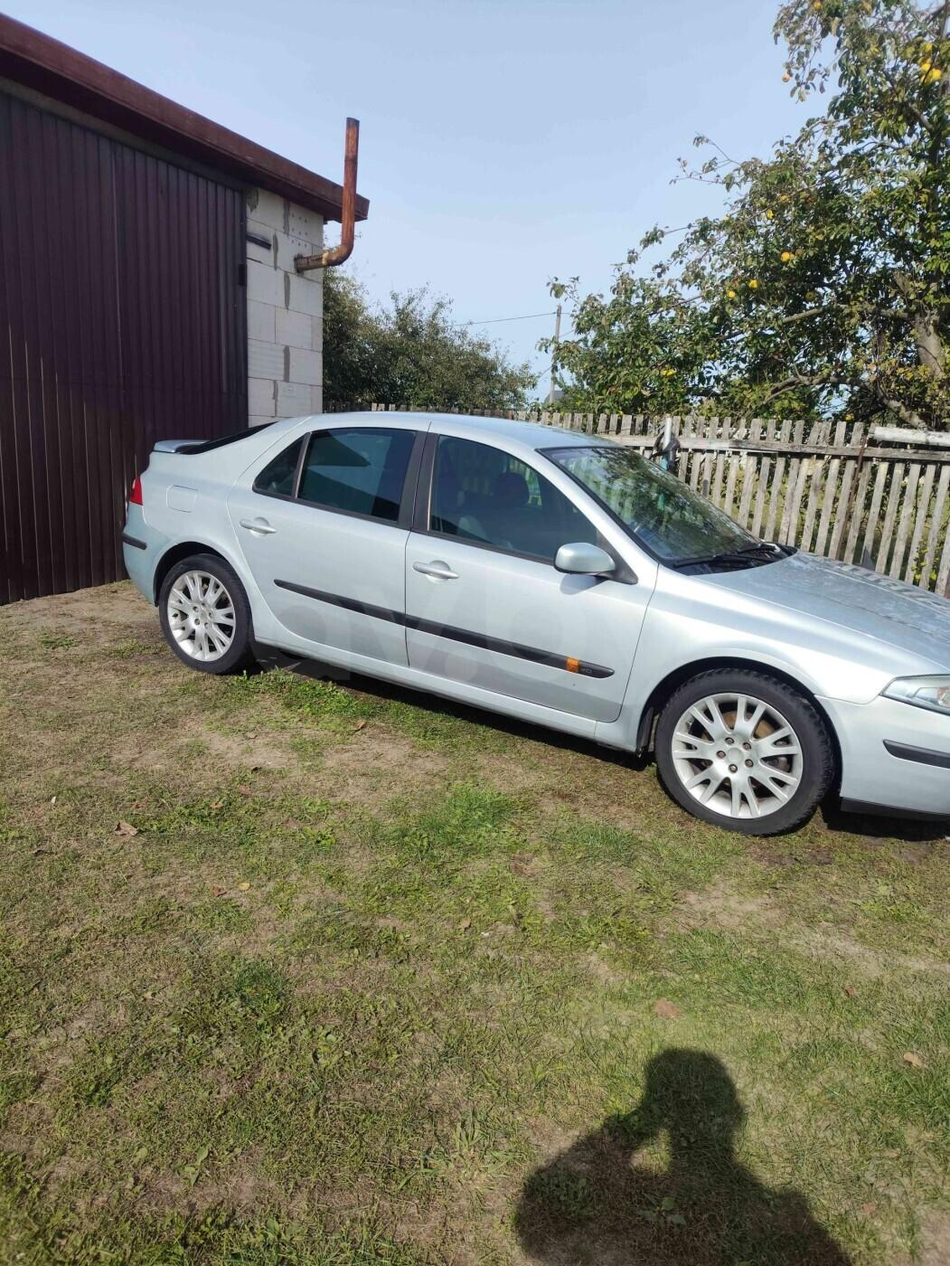Laguna_2001-2005: (123, 412, 949, 833)
